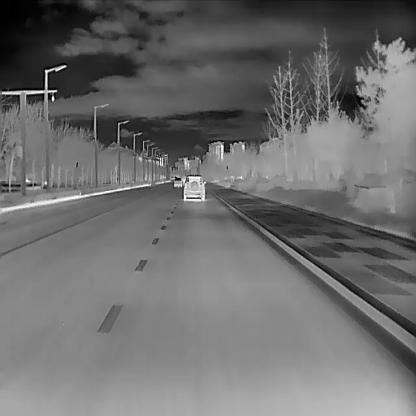car: (183, 175, 205, 200), (174, 177, 182, 187)
